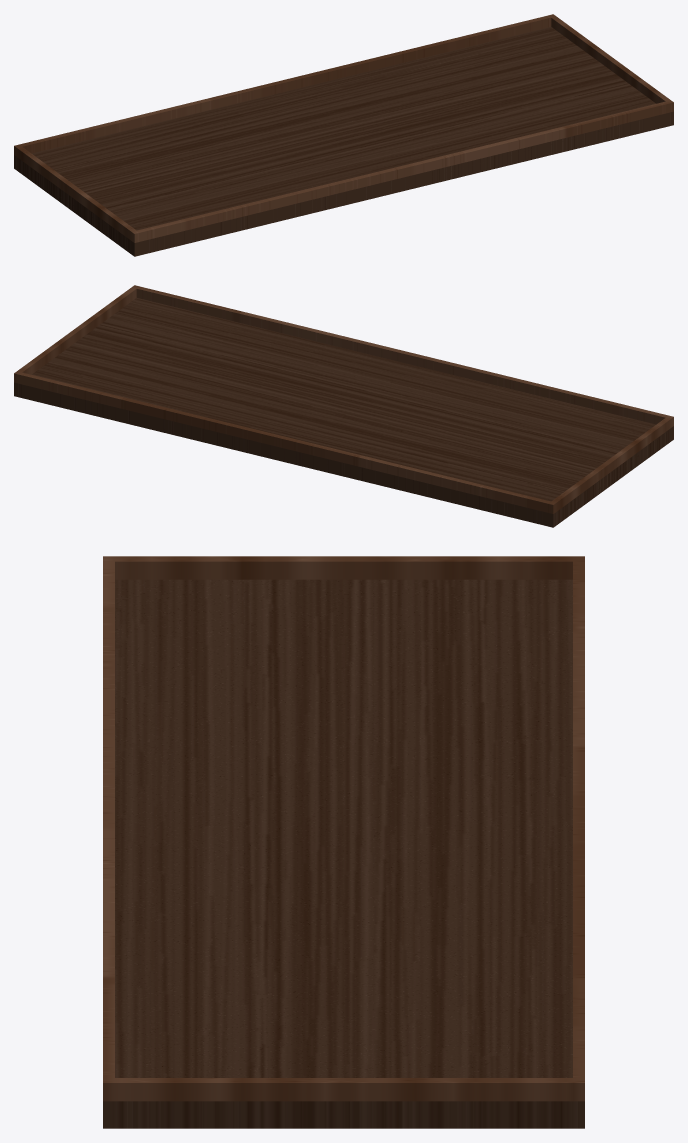
Rendered from tray.glb.
The picture shows the model from 3 angles, top to bottom: view 1: azimuth 30°, elevation 25°; view 2: azimuth 150°, elevation 25°; view 3: azimuth 270°, elevation 25°; orthographic projection. The views are drawn at different scales.
Visible parts, largest first — view 1: tray; view 2: tray; view 3: tray.
Part boxes in pixels (bbox=[...]): tray: bbox=[14, 14, 673, 256]; tray: bbox=[14, 285, 673, 527]; tray: bbox=[103, 556, 584, 1128].
Size of the model in its own units: 0.62 by 0.025 by 0.24.
Materials: 2 (2 with a texture image).
